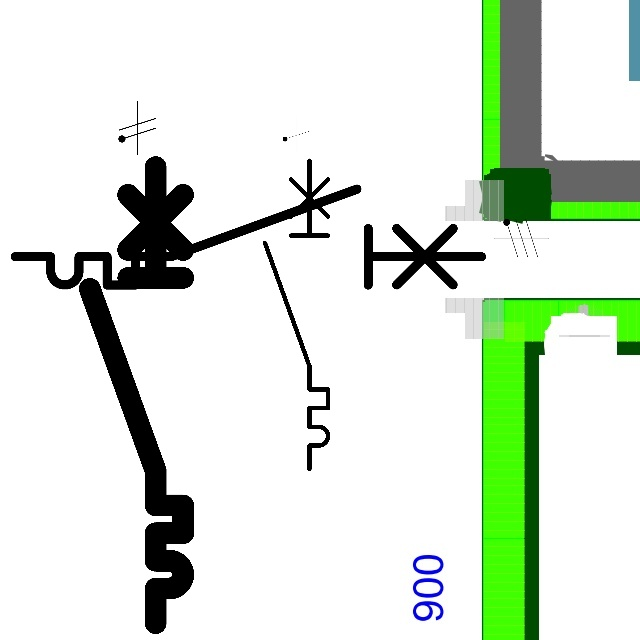interruptor_termomagnetico: (3, 177, 494, 297), (78, 155, 195, 635), (257, 152, 336, 477)
